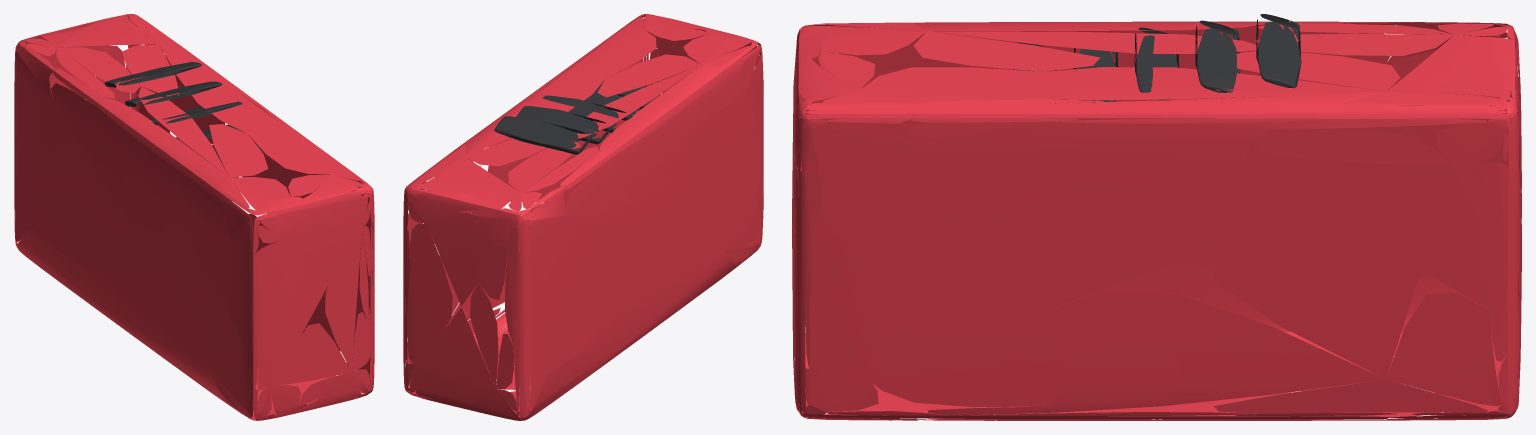
File: hypercar_fender_front_right.glb
3 renders of one model, left to right at view 1: azimuth 30°, elevation 25°; view 2: azimuth 150°, elevation 25°; view 3: azimuth 270°, elevation 25°, orthographic. The views are drawn at different scales.
Parts seen in each view (by area): view 1: Hypercar_Fender_Front_Right; view 2: Hypercar_Fender_Front_Right; view 3: Hypercar_Fender_Front_Right.
Part boxes in pixels (box(x1,y1,x2,y2)): Hypercar_Fender_Front_Right: box(14, 14, 374, 420); Hypercar_Fender_Front_Right: box(403, 14, 763, 420); Hypercar_Fender_Front_Right: box(792, 14, 1521, 420).
Size of the model in its own units: 0.2394 by 0.4009 by 0.7795.
